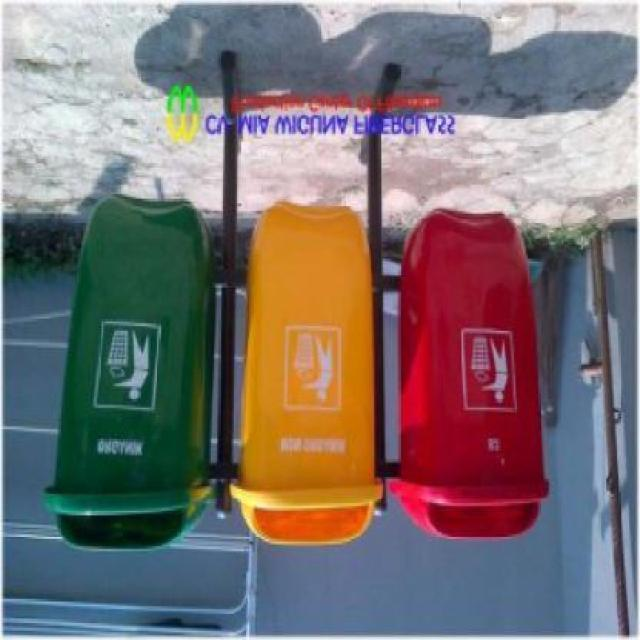garbage container: (37, 178, 223, 560), (387, 188, 561, 557), (224, 195, 393, 558)
